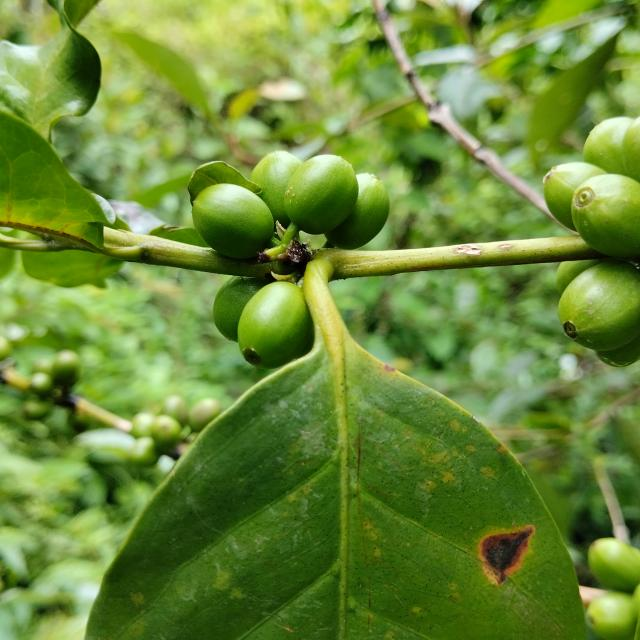green: (560, 259, 640, 351), (238, 282, 313, 369), (192, 183, 274, 259), (284, 154, 359, 234), (572, 174, 640, 258), (325, 173, 390, 249), (544, 162, 608, 231), (250, 150, 303, 227), (213, 276, 270, 342), (585, 116, 635, 174)
